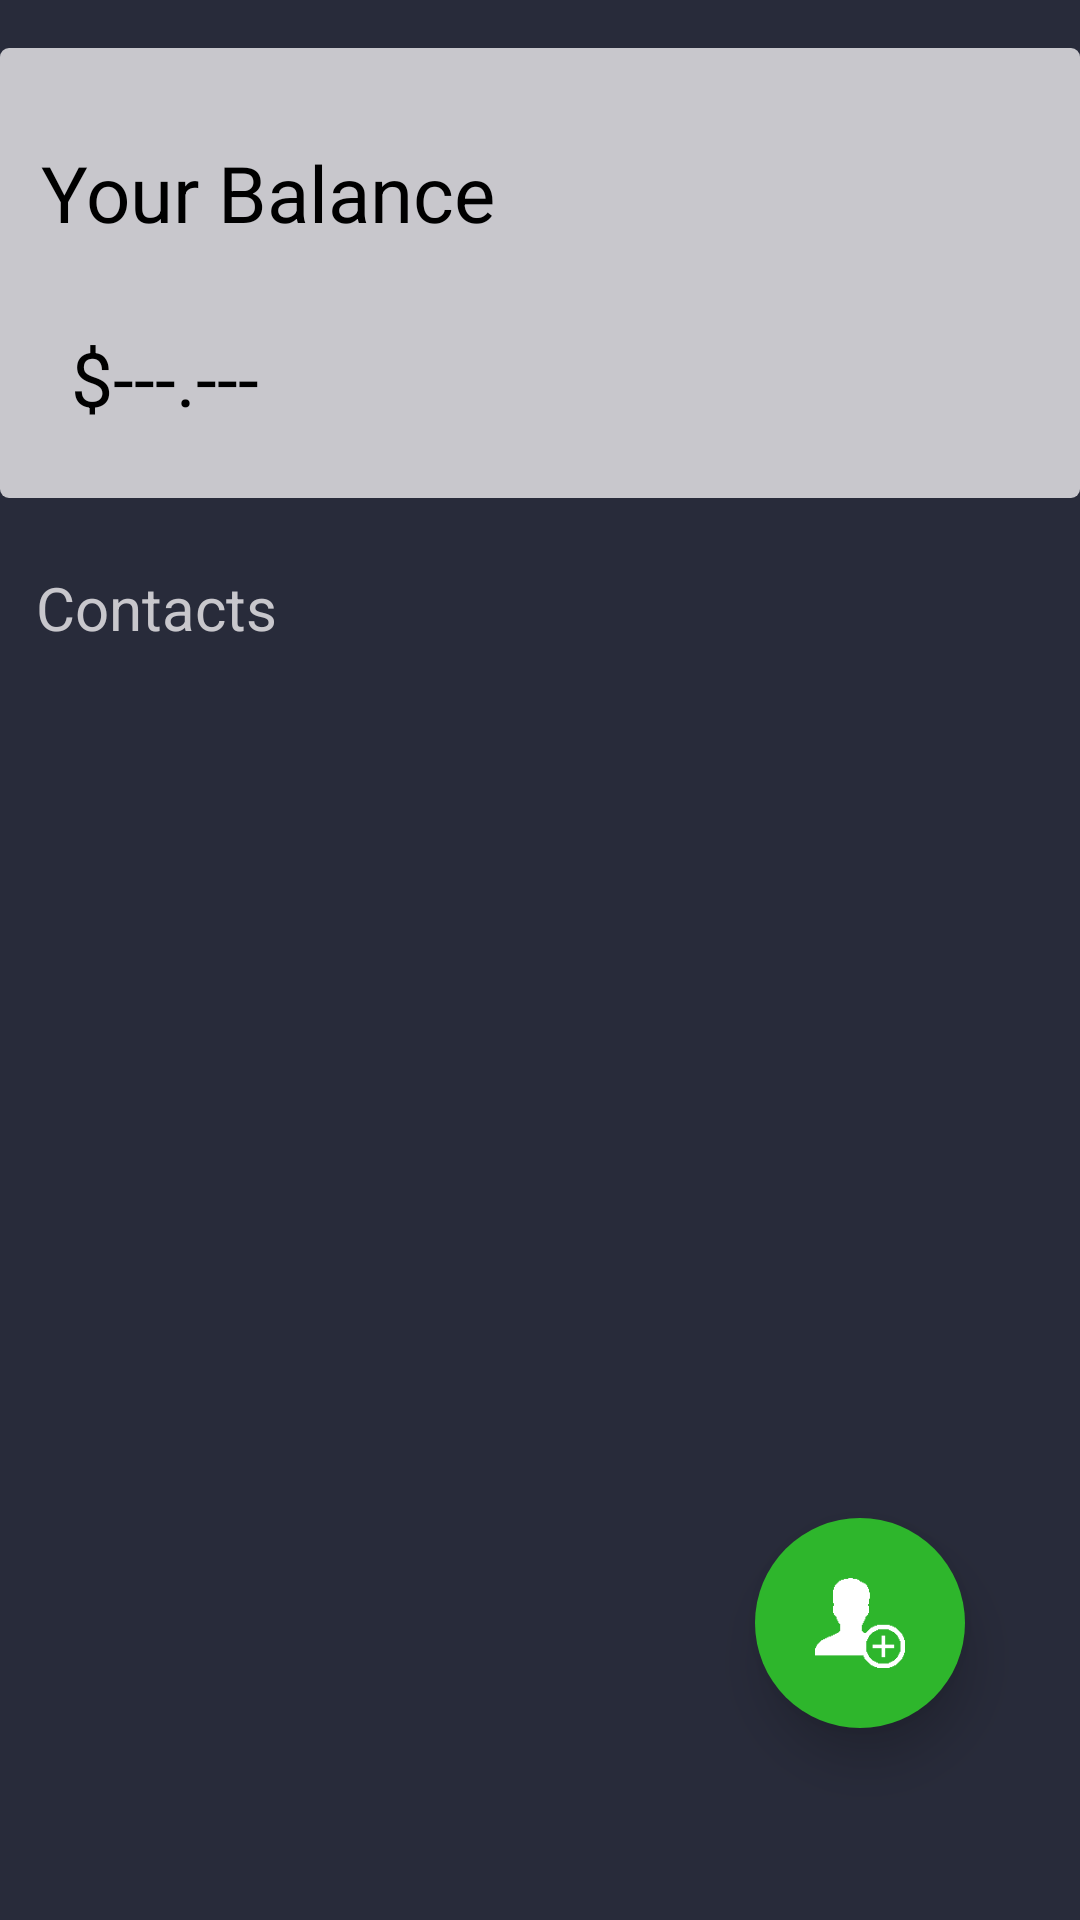

Where icons sit on this 1080×1920 app screen, as (x1, y1, x2, y2):
adduser: (755, 1518, 965, 1728)
